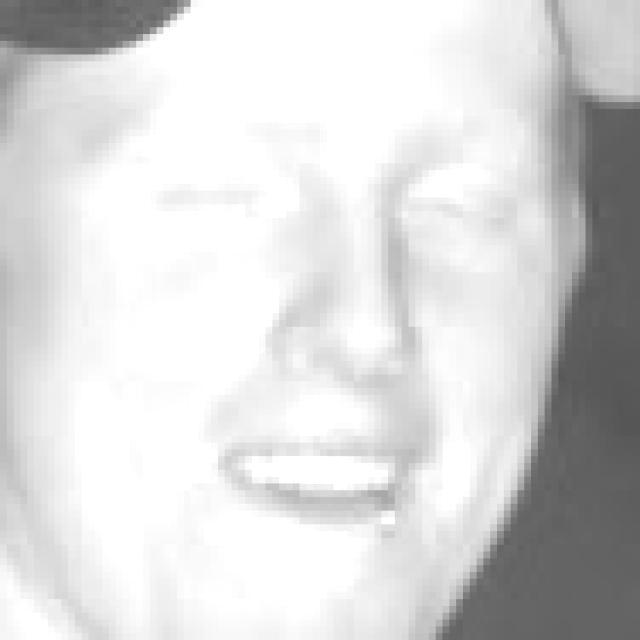real: (2, 0, 600, 640), (142, 158, 536, 260)
